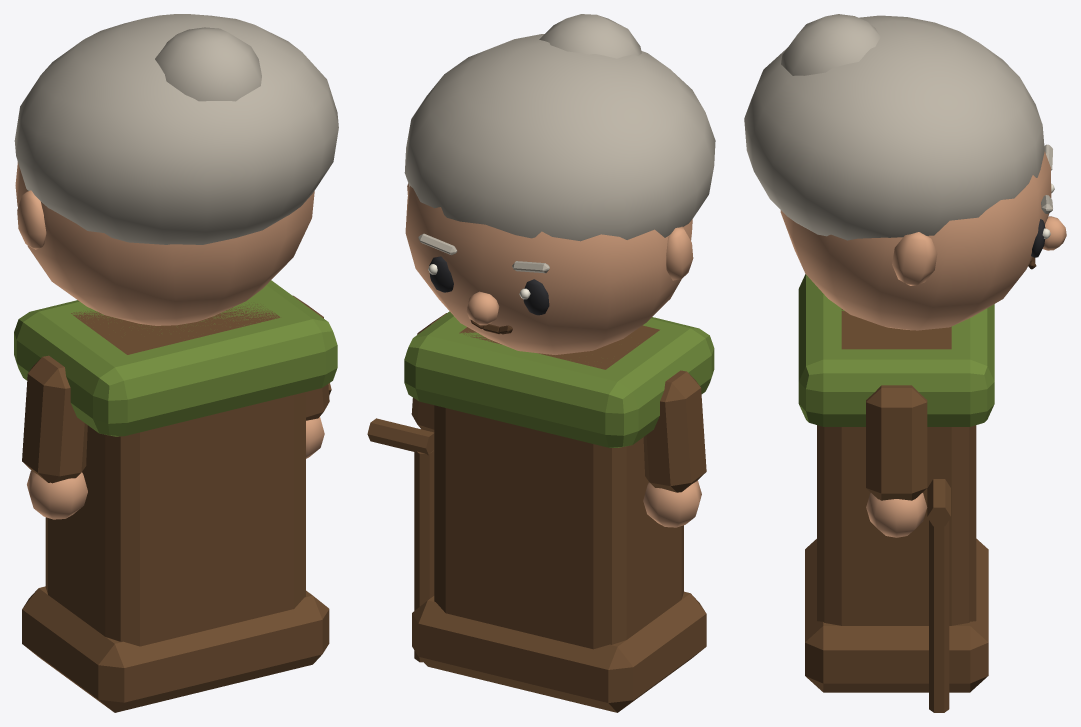
Rendered from herbwife.fbx.
3 renders of one model, left to right at view 1: azimuth 30°, elevation 25°; view 2: azimuth 150°, elevation 25°; view 3: azimuth 270°, elevation 25°, orthographic. The views are drawn at different scales.
Parts seen in each view (by area): view 1: Body, Head, ArmL, ArmR; view 2: Body, Head, ArmL, Weapon, ArmR; view 3: Head, Body, ArmR, Weapon.
Part boxes in pixels (left/top/right/bottom): Body: left=14, top=280, right=337, bottom=712; Head: left=14, top=14, right=338, bottom=325; ArmL: left=22, top=355, right=87, bottom=519; ArmR: left=293, top=295, right=329, bottom=458; Body: left=404, top=311, right=714, bottom=712; Head: left=404, top=14, right=715, bottom=354; ArmL: left=643, top=370, right=706, bottom=527; Weapon: left=367, top=418, right=434, bottom=662; ArmR: left=411, top=313, right=446, bottom=432; Head: left=744, top=14, right=1066, bottom=330; Body: left=798, top=274, right=994, bottom=692; ArmR: left=866, top=385, right=927, bottom=537; Weapon: left=927, top=479, right=950, bottom=712.
Bounding box in the file's own units: 0.4157 × 0.3794 × 0.822.
